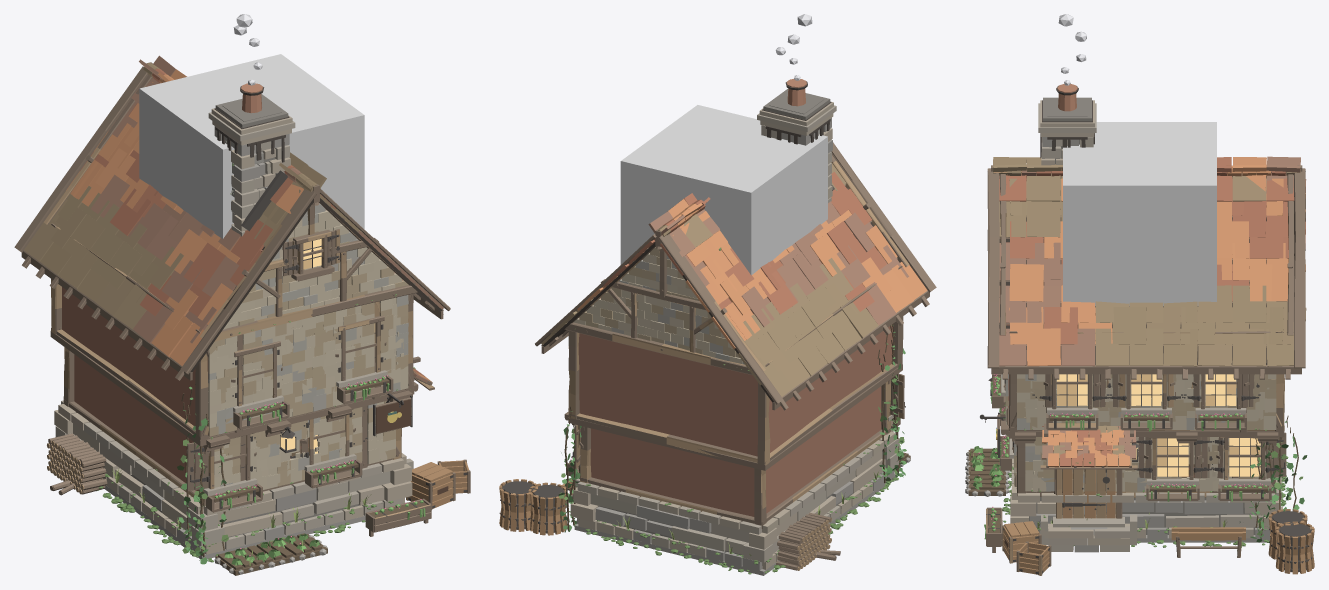
File: bld_townhouse.glb
3 renders of one model, left to right at view 1: azimuth 30°, elevation 25°; view 2: azimuth 150°, elevation 25°; view 3: azimuth 270°, elevation 25°, orthographic. The views are drawn at different scales.
Visible parts, largest first — view 1: bld_townhouse, COL_bld_townhouse; view 2: bld_townhouse, COL_bld_townhouse; view 3: bld_townhouse, COL_bld_townhouse.
Boxes of the visible parts, left/top/right/bottom form: bld_townhouse: left=14, top=14, right=470, bottom=575; COL_bld_townhouse: left=139, top=54, right=364, bottom=238; bld_townhouse: left=499, top=14, right=936, bottom=575; COL_bld_townhouse: left=620, top=105, right=827, bottom=275; bld_townhouse: left=965, top=14, right=1314, bottom=575; COL_bld_townhouse: left=1063, top=122, right=1216, bottom=306.
Bounding box in the file's own units: 7.14 × 10.92 × 7.29.
